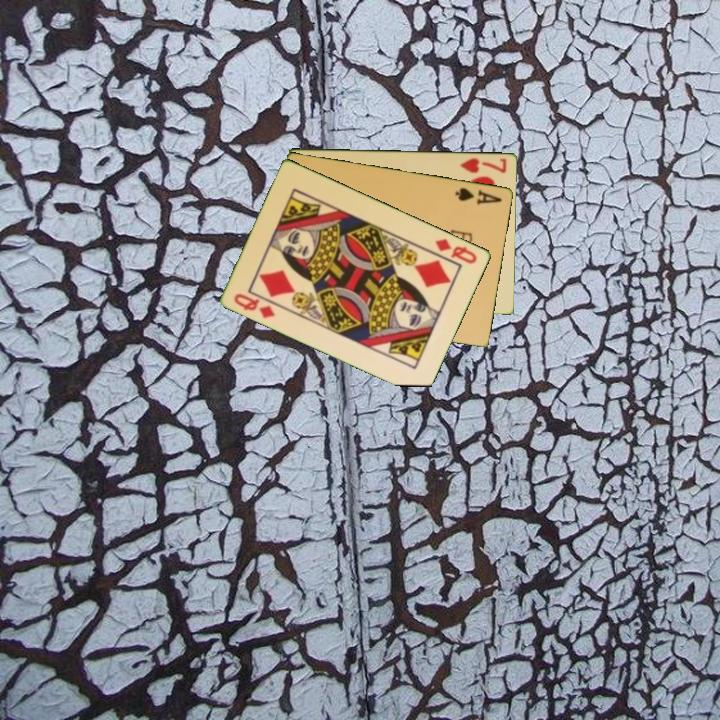7h: (457, 154, 509, 176)
As: (452, 184, 505, 207)
Qd: (432, 235, 480, 267), (231, 289, 278, 321)
